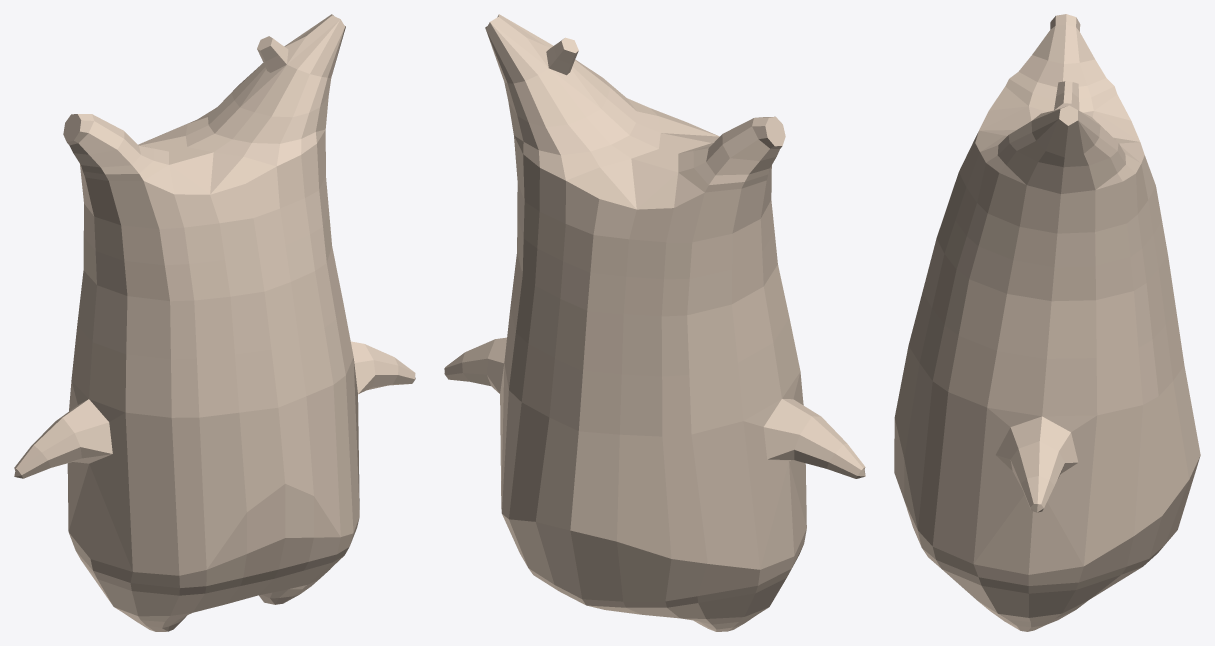
File: frame_0016.obj
3 views of the same model, side by side, from view 1: azimuth 30°, elevation 25°; view 2: azimuth 150°, elevation 25°; view 3: azimuth 270°, elevation 25° (orthographic). The views are drawn at different scales.
Visible parts, largest first — view 1: korok; view 2: korok; view 3: korok.
Boxes of the visible parts, x1,y1,x2,y2 form: korok: (14,14,415,631); korok: (444,14,865,631); korok: (894,14,1200,631).
Bounding box in the file's own units: 1.63 × 2.15 × 1.06.
